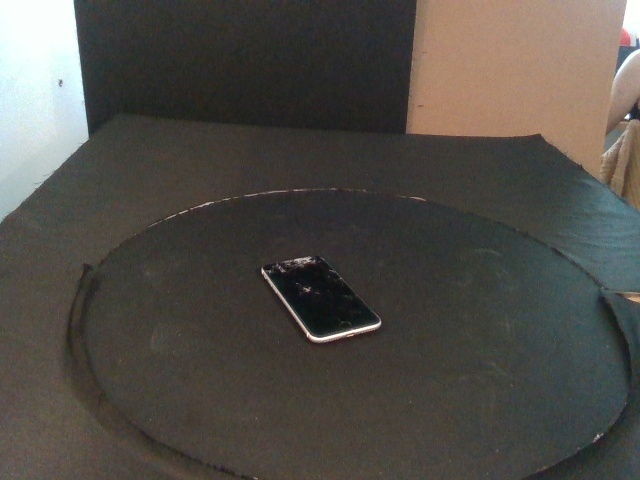phone: (260, 254, 384, 344)
